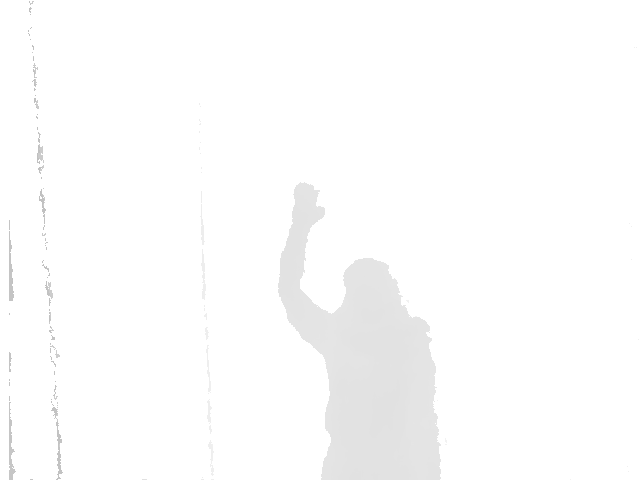hand: (290, 181, 327, 229)
head: (337, 258, 405, 322)
person: (279, 180, 442, 480)
